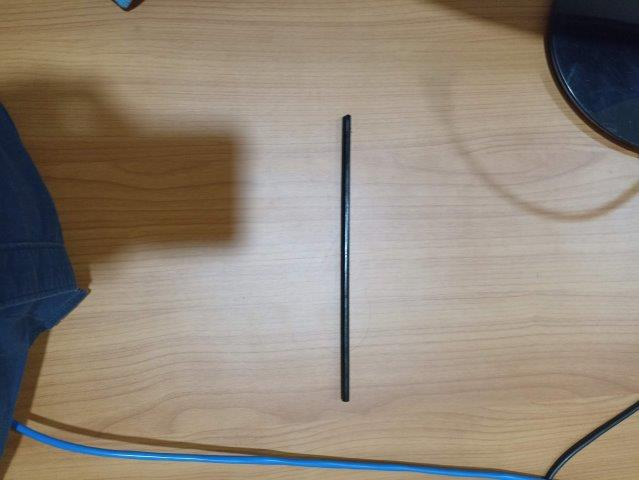sedotan: (340, 114, 351, 402)
